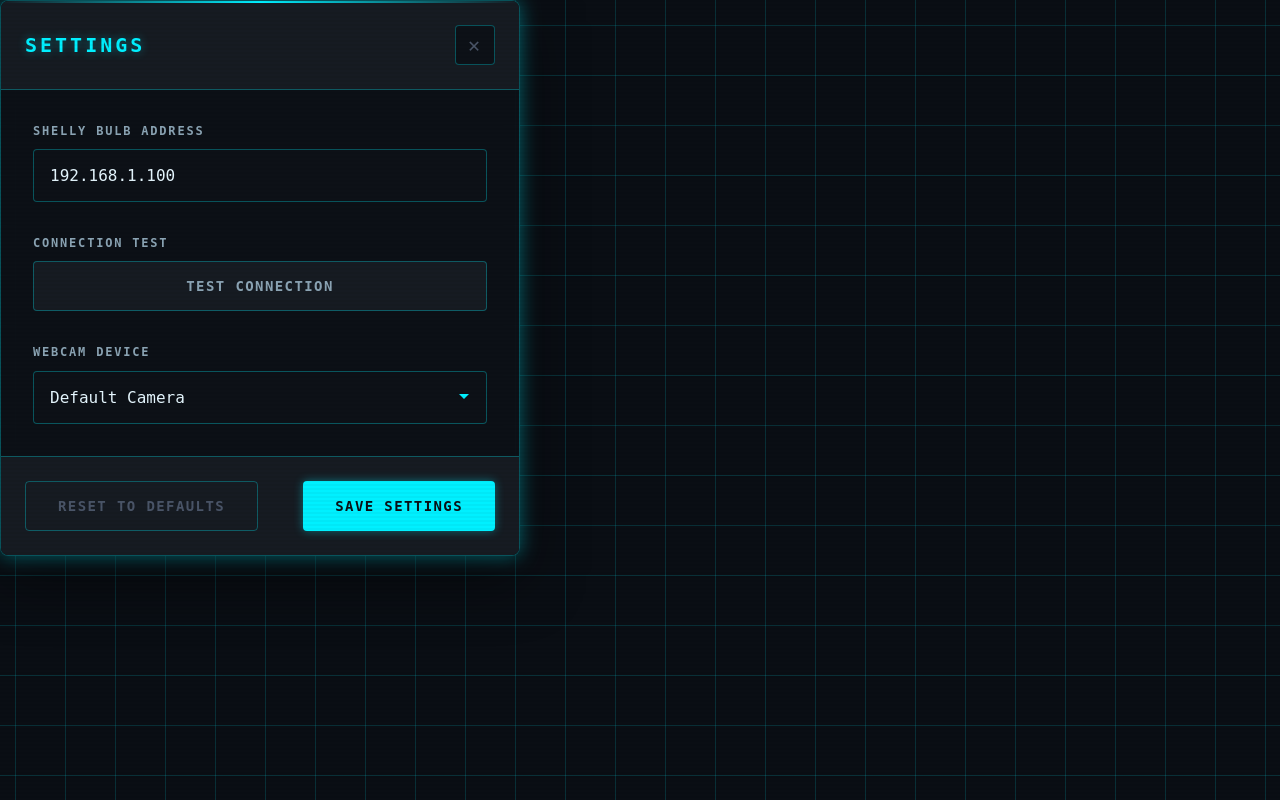
Test case: SettingsPanel › Connection Test Button - Requirements: 8.3 › should show success message when connection test succeeds
Click the button with test id "test-connection-button" at [260, 286], box left=33, top=261, right=487, bottom=311
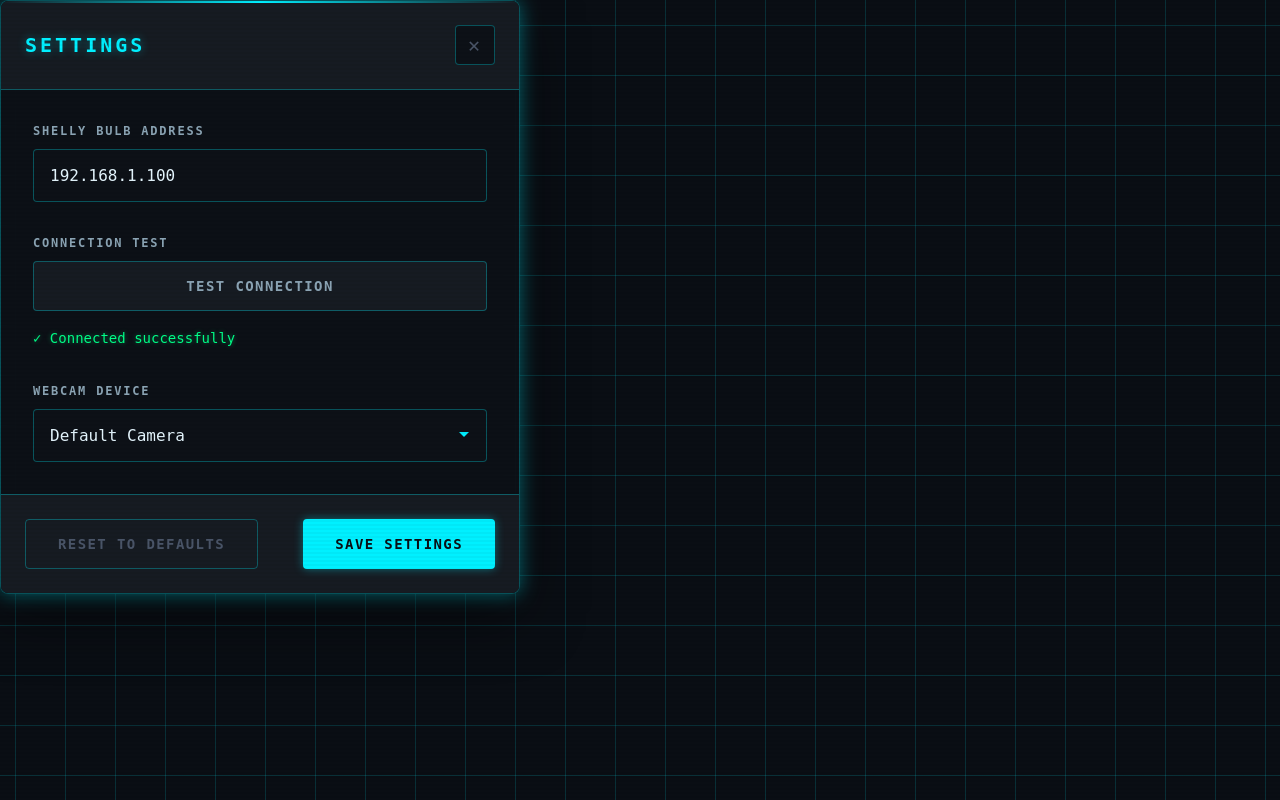
Now the text "✓ Connected successfully" is shown, box left=33, top=330, right=235, bottom=346
